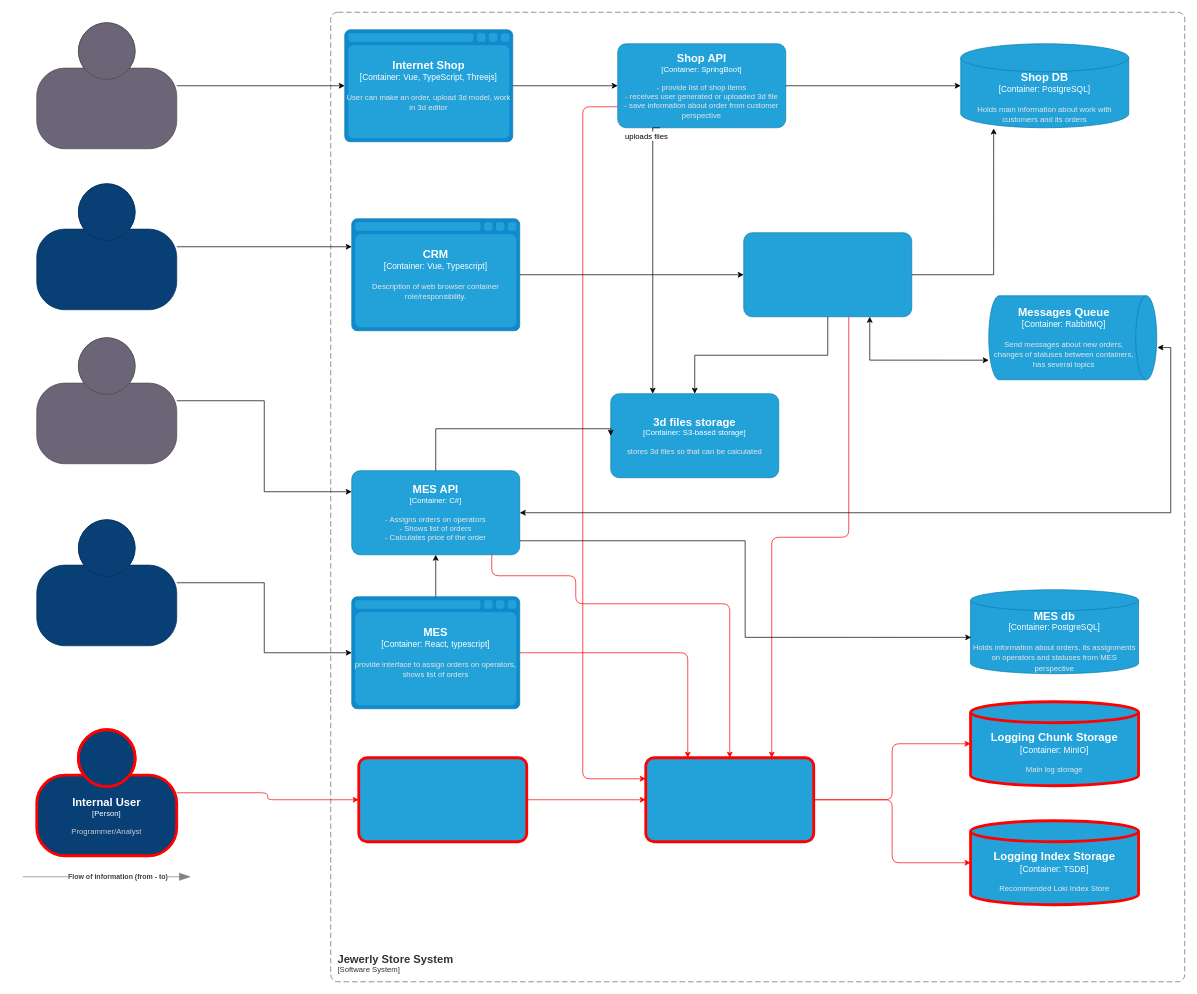
Image size: 1197x994. Some labels were removed from this diagram. The shapes that lost their labels are listed below. From the top down, each one's centre as x and y in pixels, then its label:
point (106, 85): Customer [Person] Description of external person.
point (106, 246): Seller [Person] Operates with order, confirms manufacturing for the user
point (827, 274): CRM API [Container: SpringBoot] Description of container role/responsibility.
point (106, 400): API user [Person] Description of external person.
point (106, 582): Operator [Person] Takes order in work, manufactures jewerly
point (442, 799): Grafana [Container: Grafana] Central Monitoring Frontend
point (729, 799): Logging backend [Container: Grafana Loki] Like Prometheus, but for logs
